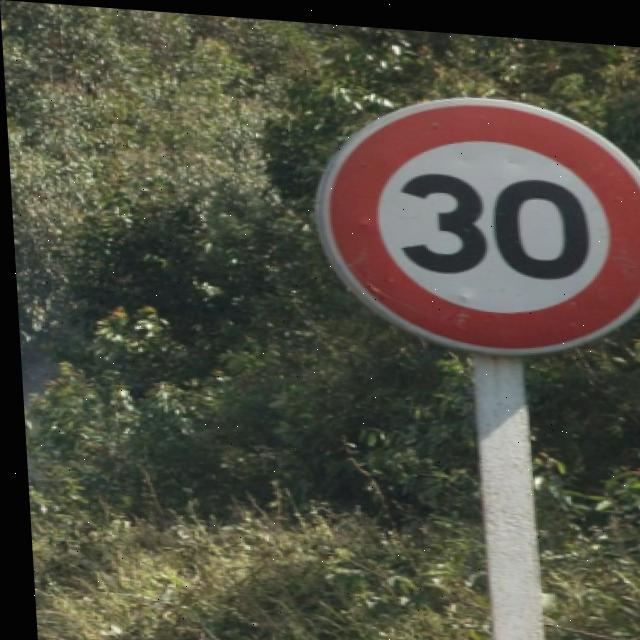Speed limit 30: (302, 76, 640, 357)
